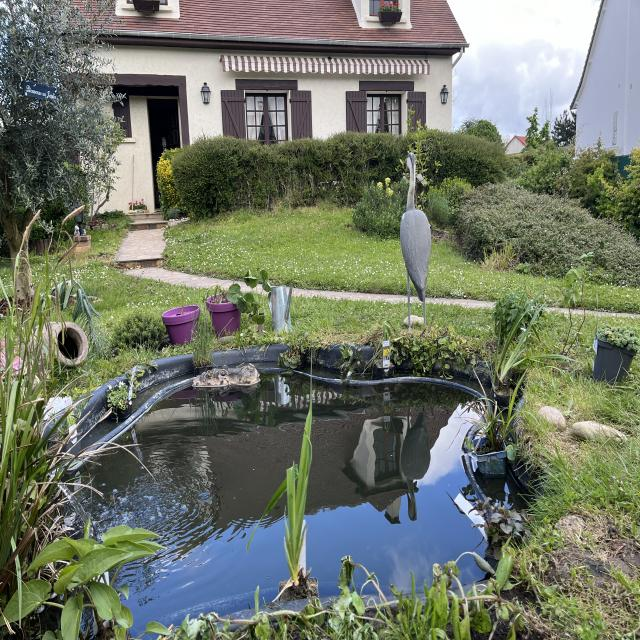Heron: (393, 136, 447, 349)
